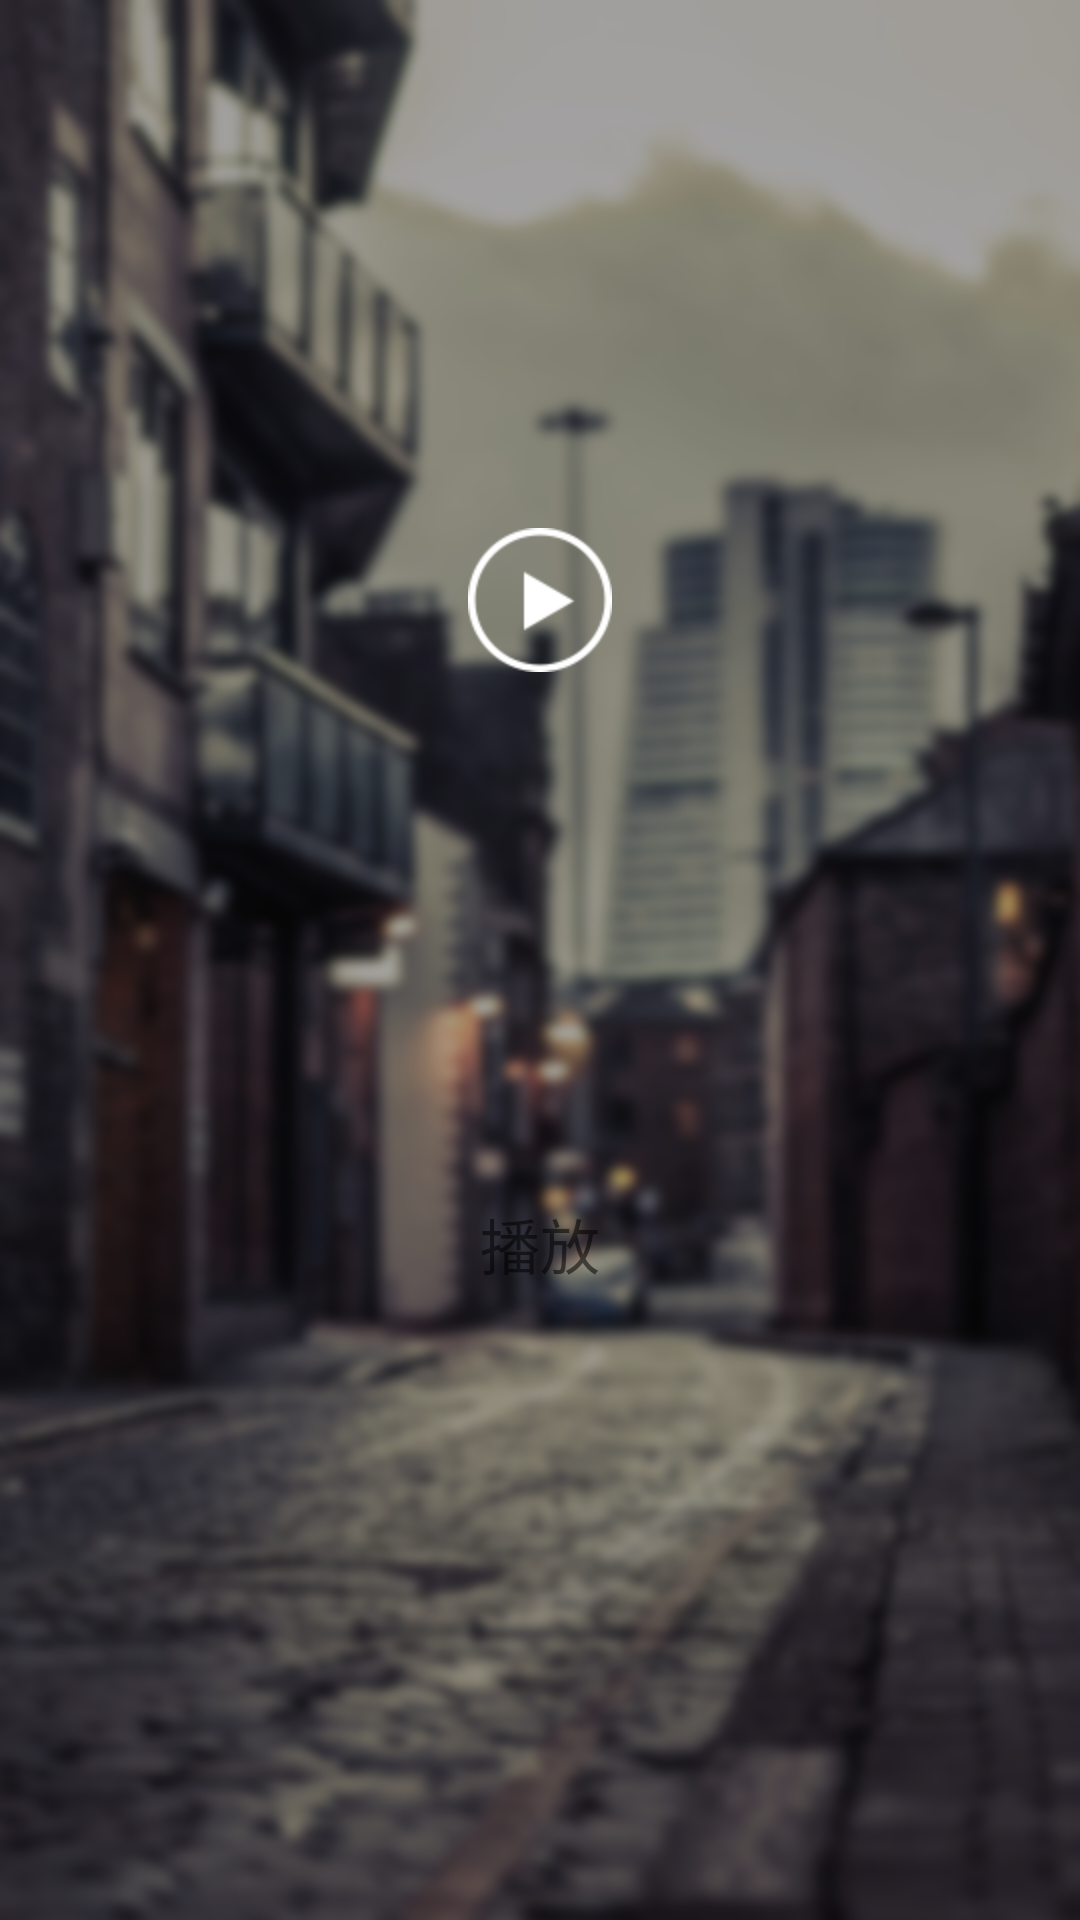

Icons on this 1080x1920 Android screen, each with its box as (x1, y1, x2, y2):
play thw: (468, 528, 612, 672)
